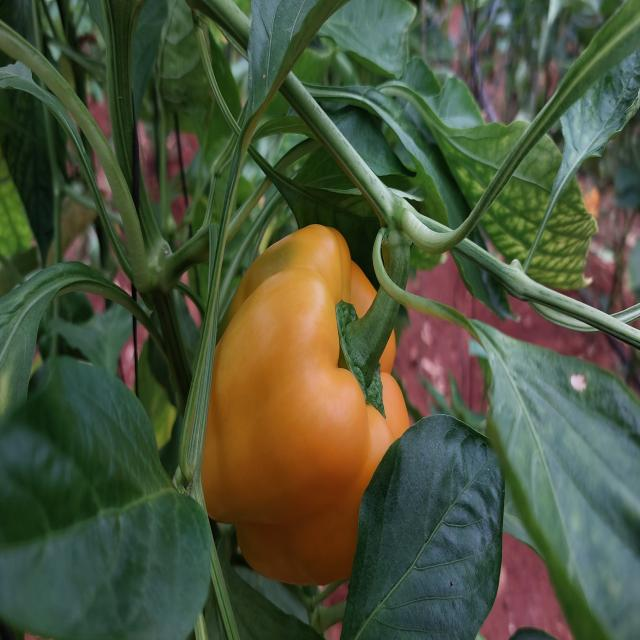Yellow-Ready-to-Harvest: (179, 220, 414, 592), (180, 221, 415, 588)
